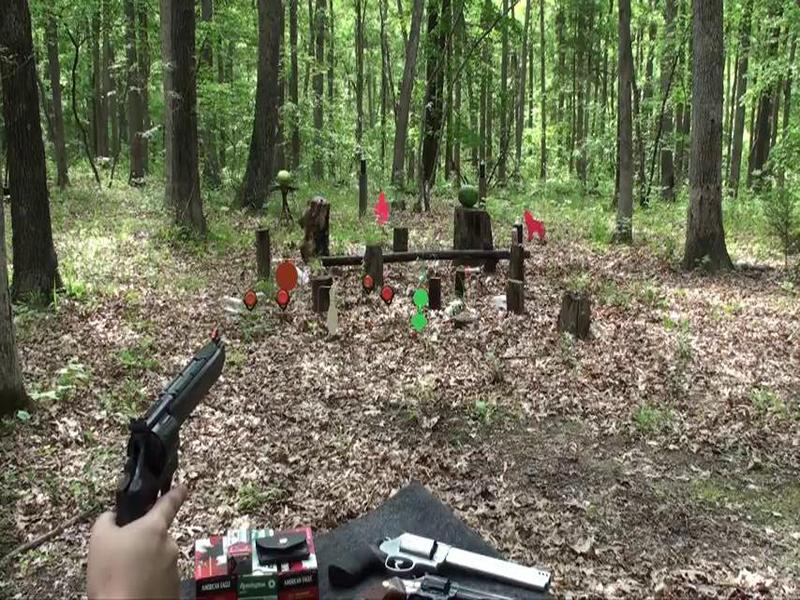Revolver: (108, 328, 240, 531)
